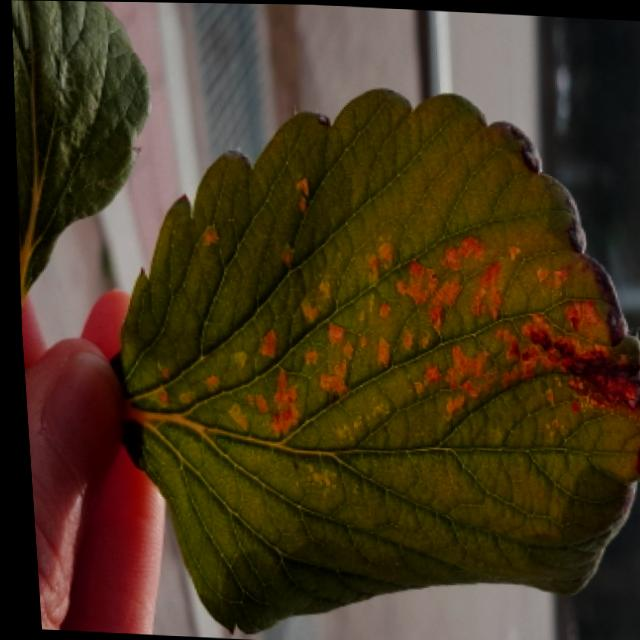Angular Leafspot: (137, 136, 640, 499)
